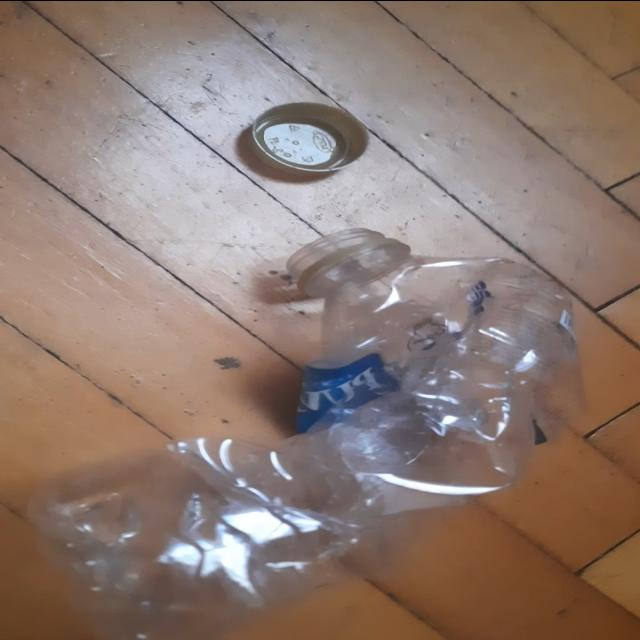Plastic: (25, 228, 582, 638)
